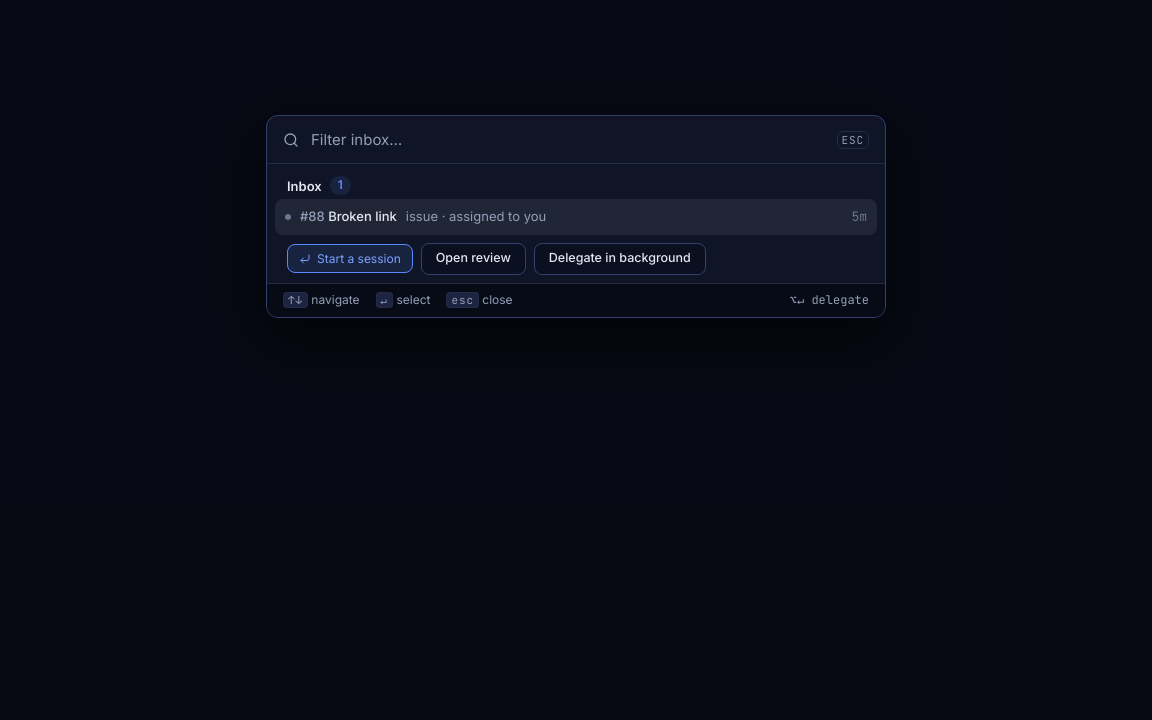
Test: InboxPalette › an item without a checkout says so and creates nothing
Click the button "Start a session" at coordinates (350, 259), box [287,244,413,273]
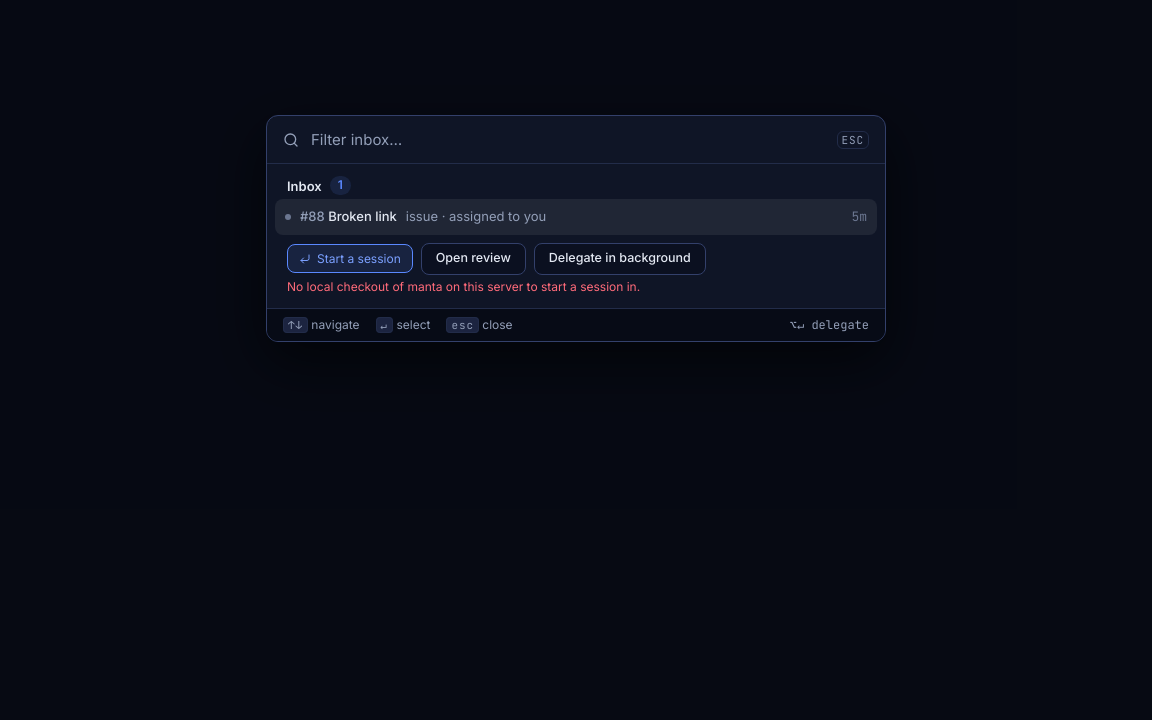
Expected: the text "No local checkout of manta on this server to start a session in." is shown, [287,279,640,294]
